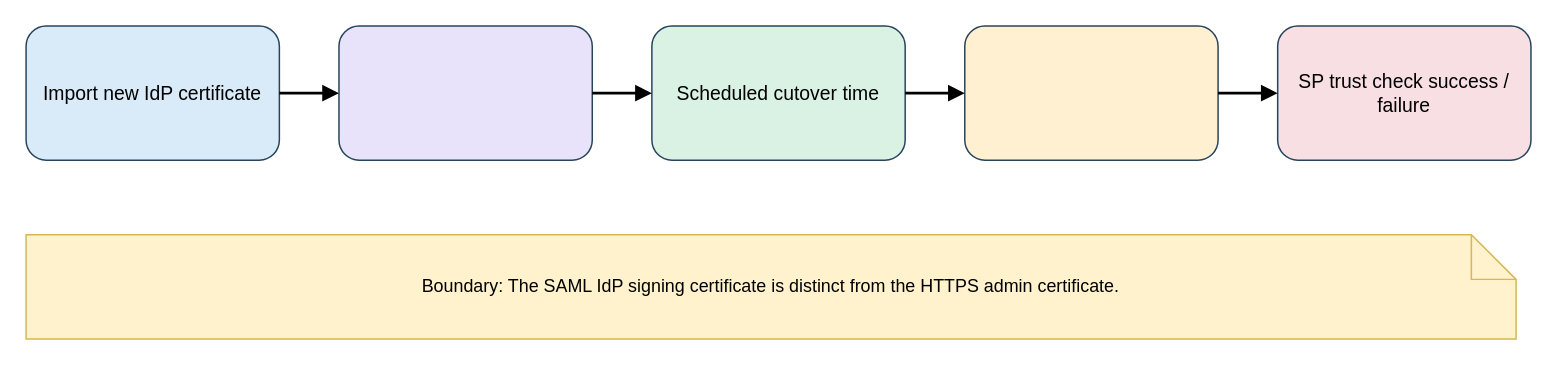
Image size: 1557x365. Some labels were removed from this diagram. Each missing label, with the box of its shape:
Set default + replacement cert: (337, 25, 592, 160)
Signed SAML assertion: (963, 25, 1218, 160)
